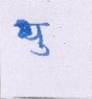u_matra: (31, 43, 51, 57)
